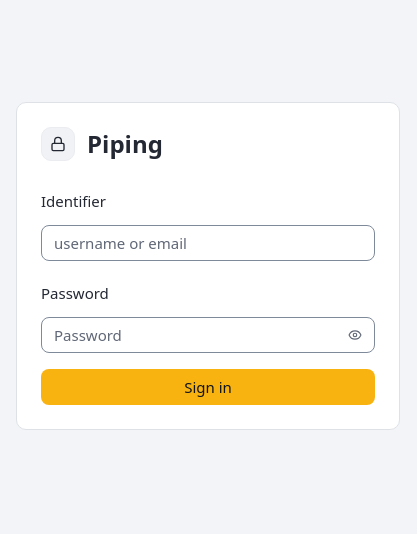
it: AuthLogin › maps local-login license API errors to safe localized text
The image size is (417, 534).
Type "user@example.test" into the field with placeholder "username or email" at point(208, 243), box [41,225,375,261]
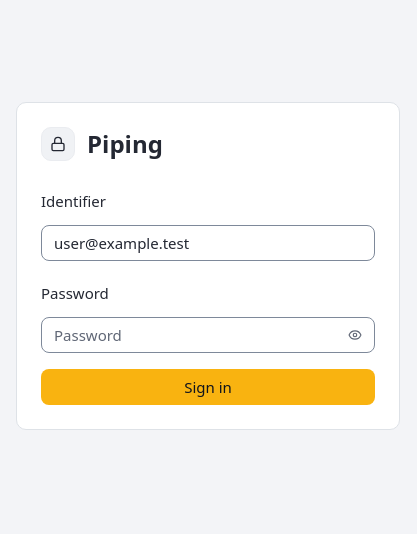
Type "secret-password" into the password field with placeholder "Password" at point(208, 335), box [41,317,375,353]
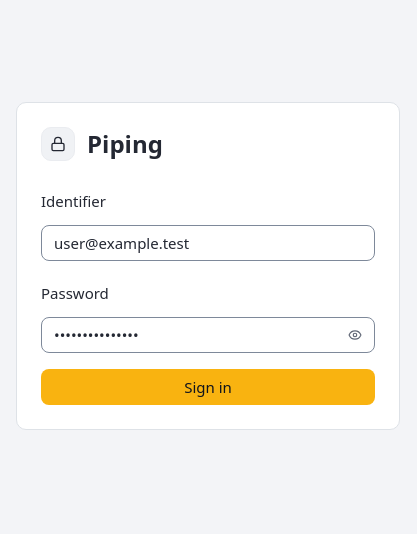
Click the button "Sign in" at point(208, 387), box [41,369,375,405]
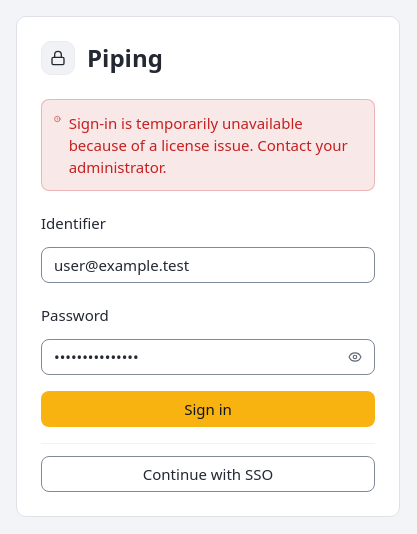
Result: the text "Sign-in is temporarily unavailable because of a license issue. Contact your administrator." is shown at [69,112,348,176]
